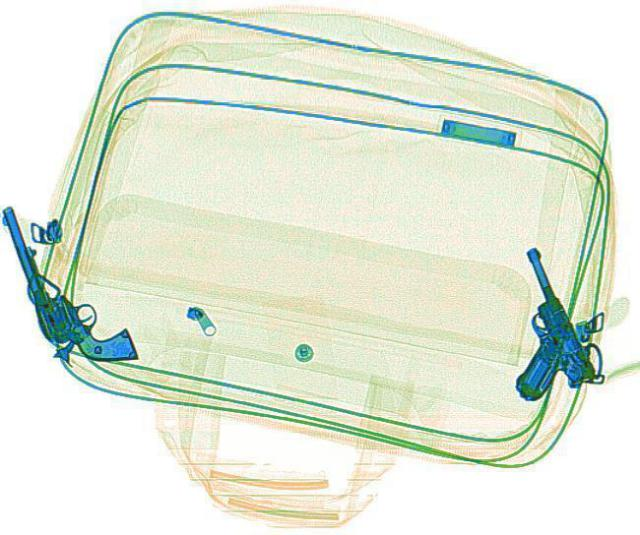Gun: (0, 193, 136, 372), (458, 246, 600, 403)
